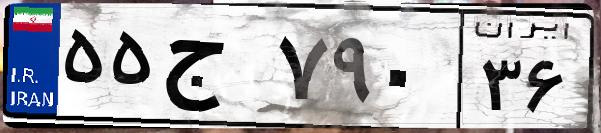0: (385, 28, 445, 110)
3: (475, 38, 525, 113)
5: (57, 26, 110, 100), (110, 28, 158, 98)
6: (525, 38, 570, 115)
7: (270, 28, 330, 110)
9: (330, 28, 385, 110)
ج: (158, 20, 270, 120)
